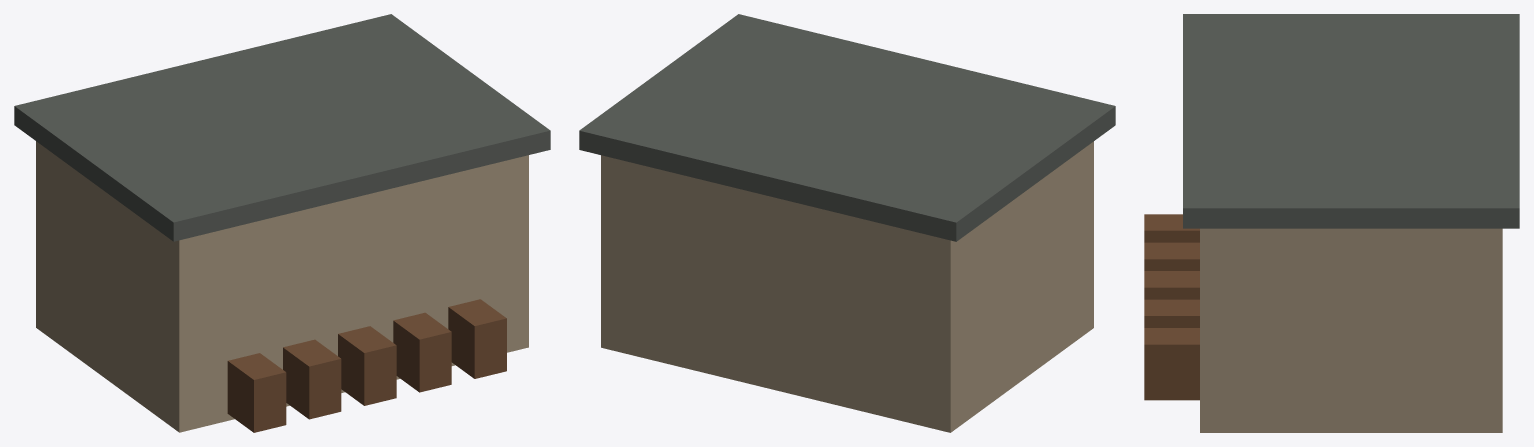
Rendered from textile-workshop.source.glb.
3 views of the same model, side by side, from view 1: azimuth 30°, elevation 25°; view 2: azimuth 150°, elevation 25°; view 3: azimuth 270°, elevation 25° (orthographic). The views are drawn at different scales.
Visible parts, largest first — view 1: textile-workshop-building-mesh, textile-workshop-roof-mesh, textile-workshop-loom--1.2-mesh, textile-workshop-loom-0.6-mesh, textile-workshop-loom--0.6-mesh, textile-workshop-loom-0-mesh, textile-workshop-loom-1.2-mesh; view 2: textile-workshop-building-mesh, textile-workshop-roof-mesh; view 3: textile-workshop-roof-mesh, textile-workshop-building-mesh, textile-workshop-loom-1.2-mesh, textile-workshop-loom--0.6-mesh, textile-workshop-loom-0-mesh, textile-workshop-loom-0.6-mesh, textile-workshop-loom--1.2-mesh.
Boxes of the visible parts, x1,y1,x2,y2 form: textile-workshop-building-mesh: [36, 141, 528, 432]; textile-workshop-roof-mesh: [14, 14, 550, 241]; textile-workshop-loom--1.2-mesh: [227, 353, 286, 432]; textile-workshop-loom-0.6-mesh: [393, 312, 451, 392]; textile-workshop-loom--0.6-mesh: [283, 339, 341, 419]; textile-workshop-loom-0-mesh: [338, 326, 396, 405]; textile-workshop-loom-1.2-mesh: [448, 299, 506, 378]; textile-workshop-building-mesh: [601, 141, 1093, 432]; textile-workshop-roof-mesh: [579, 14, 1115, 241]; textile-workshop-roof-mesh: [1183, 14, 1519, 228]; textile-workshop-building-mesh: [1200, 228, 1502, 432]; textile-workshop-loom-1.2-mesh: [1144, 328, 1199, 400]; textile-workshop-loom--0.6-mesh: [1144, 242, 1199, 270]; textile-workshop-loom-0-mesh: [1144, 271, 1199, 299]; textile-workshop-loom-0.6-mesh: [1144, 299, 1199, 327]; textile-workshop-loom--1.2-mesh: [1144, 214, 1199, 242].
Bounding box in the file's own units: 4.1 × 2.28 × 3.35.
